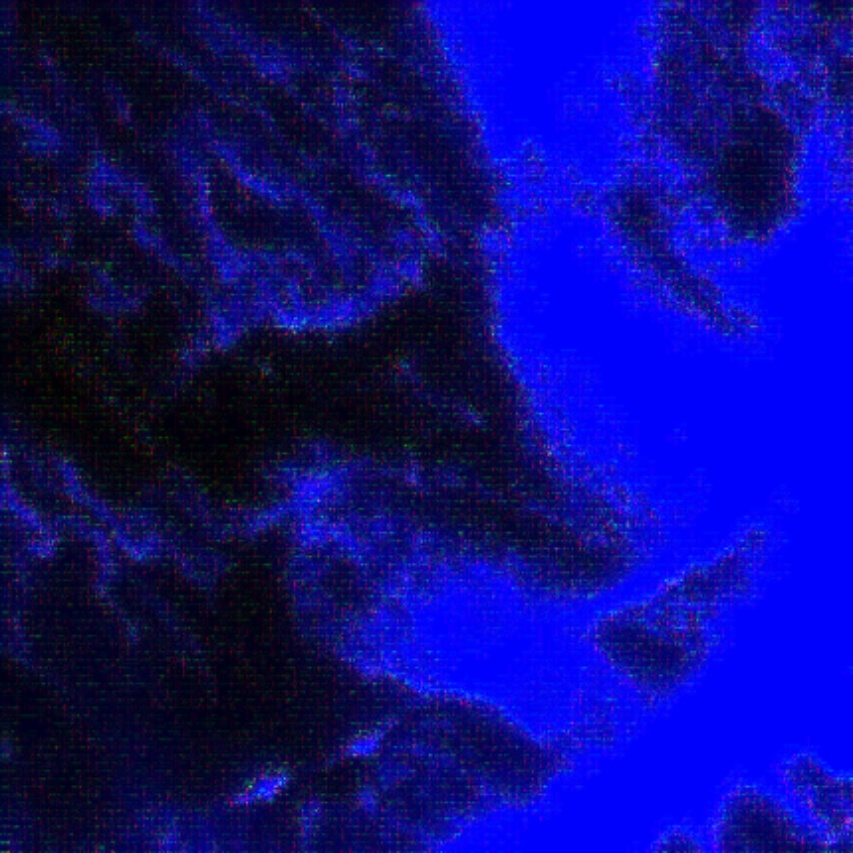rip_current: (250, 146, 727, 645)
